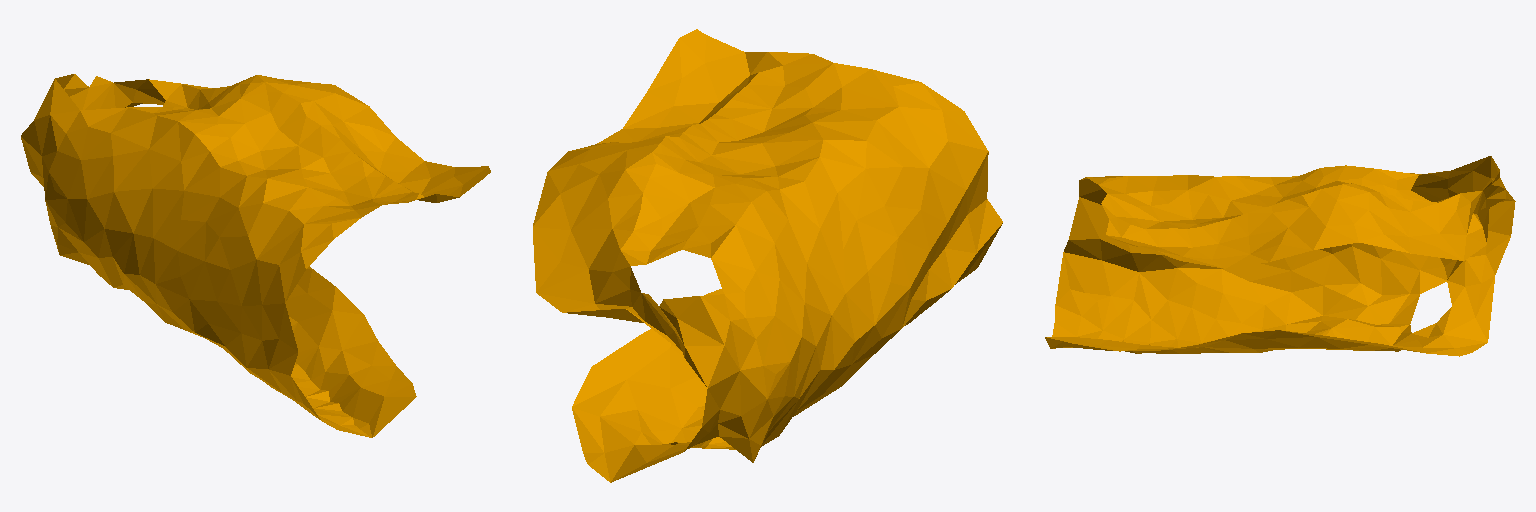
The robot description file, URDF, robot "init":
<?xml version='1.0' encoding='utf-8'?>
<robot name="init">
<link name="link_0"><inertial><mass value="1.0" /><origin rpy="0 0 0" xyz="0.000000 0.000000 0.000000" /><inertia ixx="1.0" ixy="0.0" ixz="0.0" iyy="1.0" iyz="0.0" izz="1.0" /></inertial><visual><origin rpy="0 0 0" xyz="0.000000 0.000000 0.000000" /><geometry><mesh filename="./clothHuman/cloth/2772.obj" /></geometry></visual><collision><origin rpy="0 0 0" xyz="0.000000 0.000000 0.000000" /><geometry><mesh filename="./clothHuman/cloth/2772.obj" /></geometry></collision></link></robot>

--- Render facts (derived) ---
Views: 3 orthographic renders of the robot side by side, from view 1: azimuth 30°, elevation 25°; view 2: azimuth 150°, elevation 25°; view 3: azimuth 270°, elevation 25°.
Model init with 1 links and 0 joints (none), rooted at link_0, posed all joints at 0.
Links seen in each view (by area): view 1: link_0; view 2: link_0; view 3: link_0.
Link boxes in pixels (x1,y1,x2,y2): link_0: [21, 74, 490, 437]; link_0: [533, 29, 1002, 482]; link_0: [1045, 156, 1515, 356].
Size in the robot's own frame: 2.16 by 3.9 by 1.76 metres.
Meshes: 1 distinct files referenced, 1 mesh visuals loaded (1 OBJ).